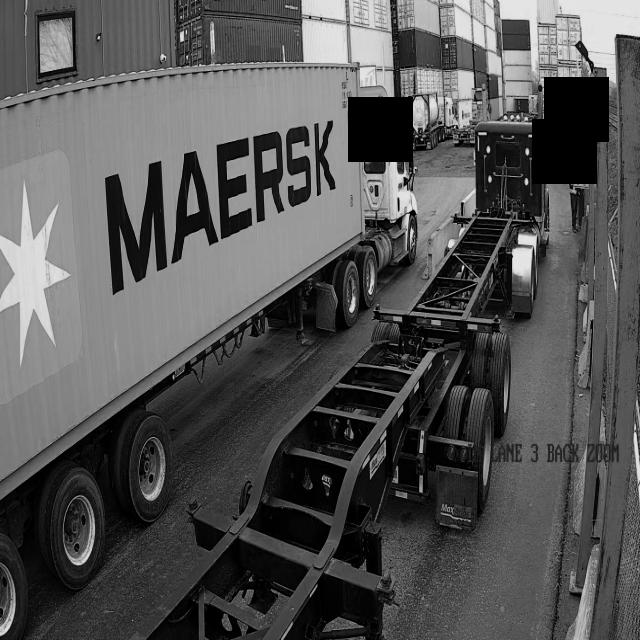container_company_logo: (101, 100, 342, 310)
truck_with_container: (0, 65, 418, 397)
truck_without_container: (132, 119, 551, 640)
